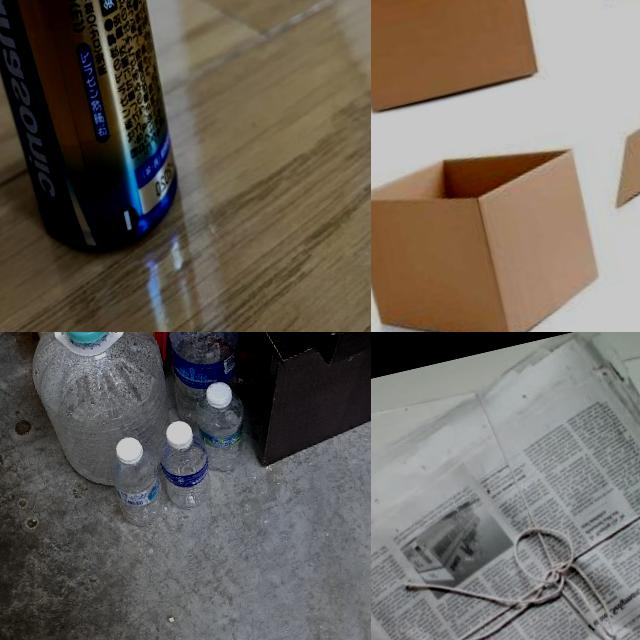bateria: (0, 0, 211, 272)
garrafa plástica: (371, 125, 614, 332), (371, 0, 583, 124), (29, 332, 186, 498), (149, 332, 257, 427), (180, 392, 260, 479), (107, 449, 174, 530), (154, 432, 214, 510)
papel: (371, 332, 640, 640)
tampa plástica: (157, 412, 197, 456), (201, 374, 237, 413), (111, 432, 146, 468), (58, 332, 113, 351)
